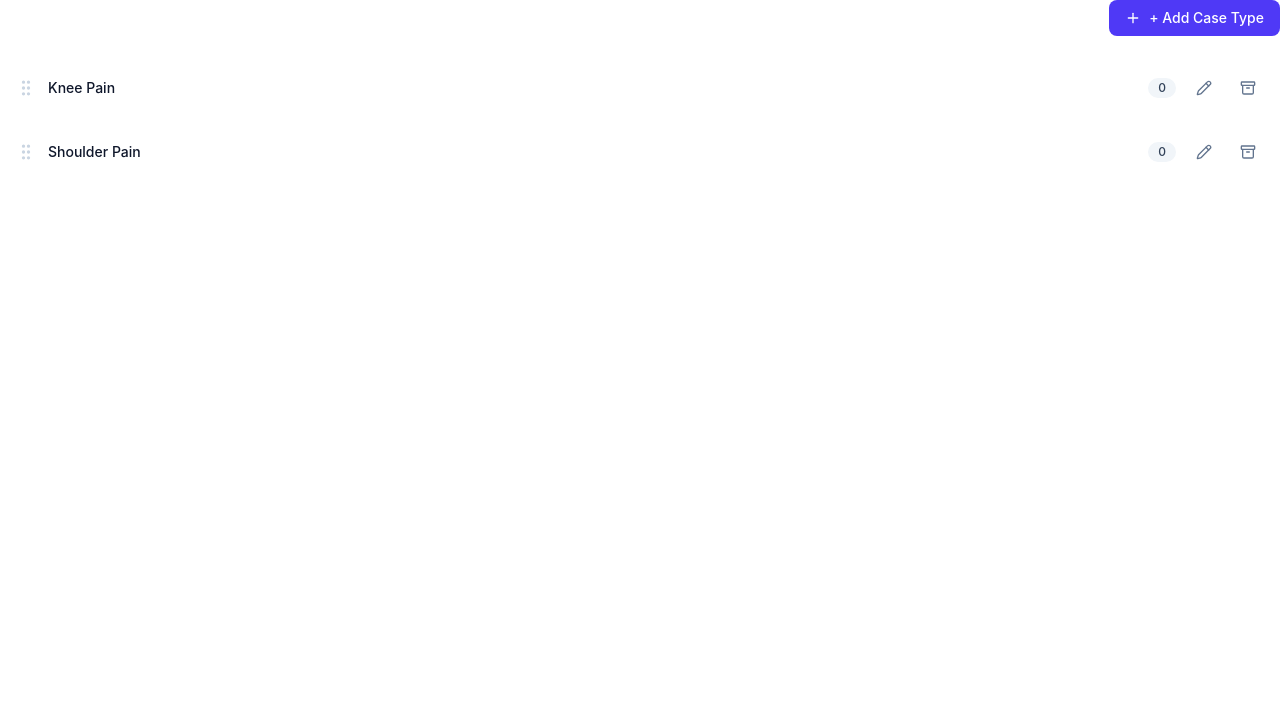
CaseTypesPage modal state › opens the edit dialog prefilled with that row’s name
Expected: the text "Shoulder Pain" is shown, [48,143,141,160]
Click the button named "edit" in the row of "Shoulder Pain" at (1204, 152), box [1188,136,1220,168]
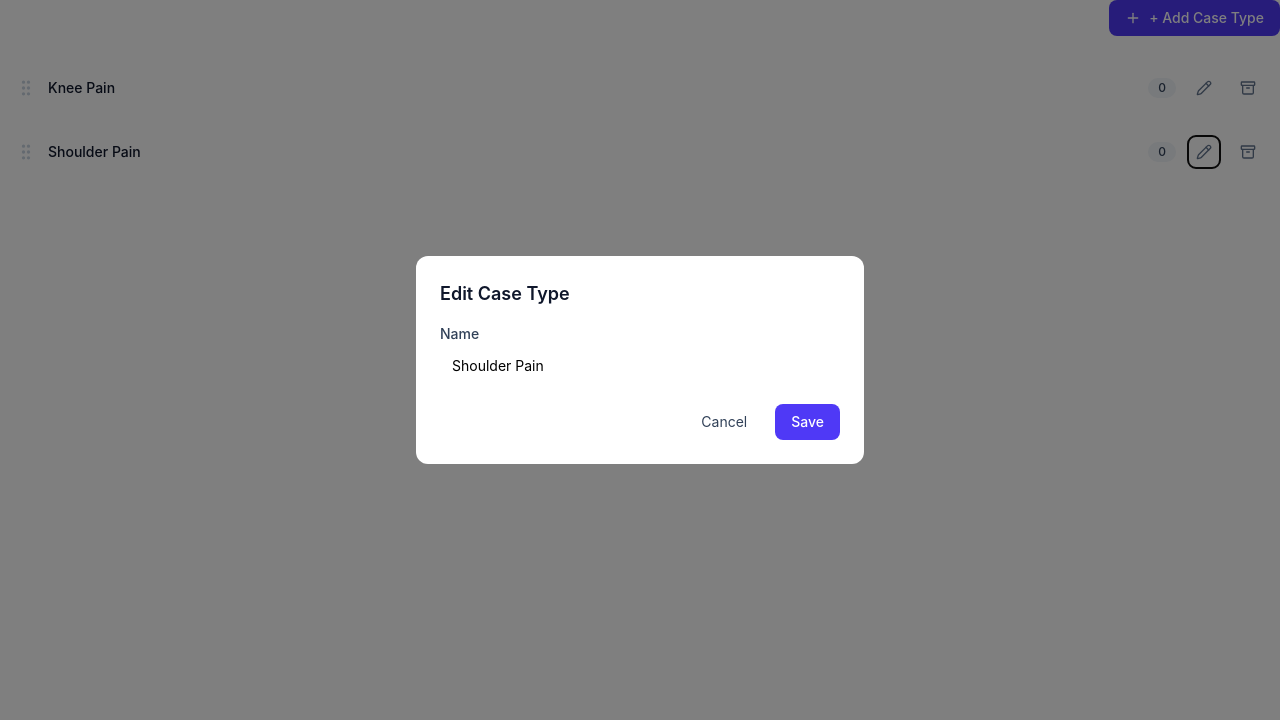
Expected: the field holds "Shoulder Pain", [440,348,840,384]
